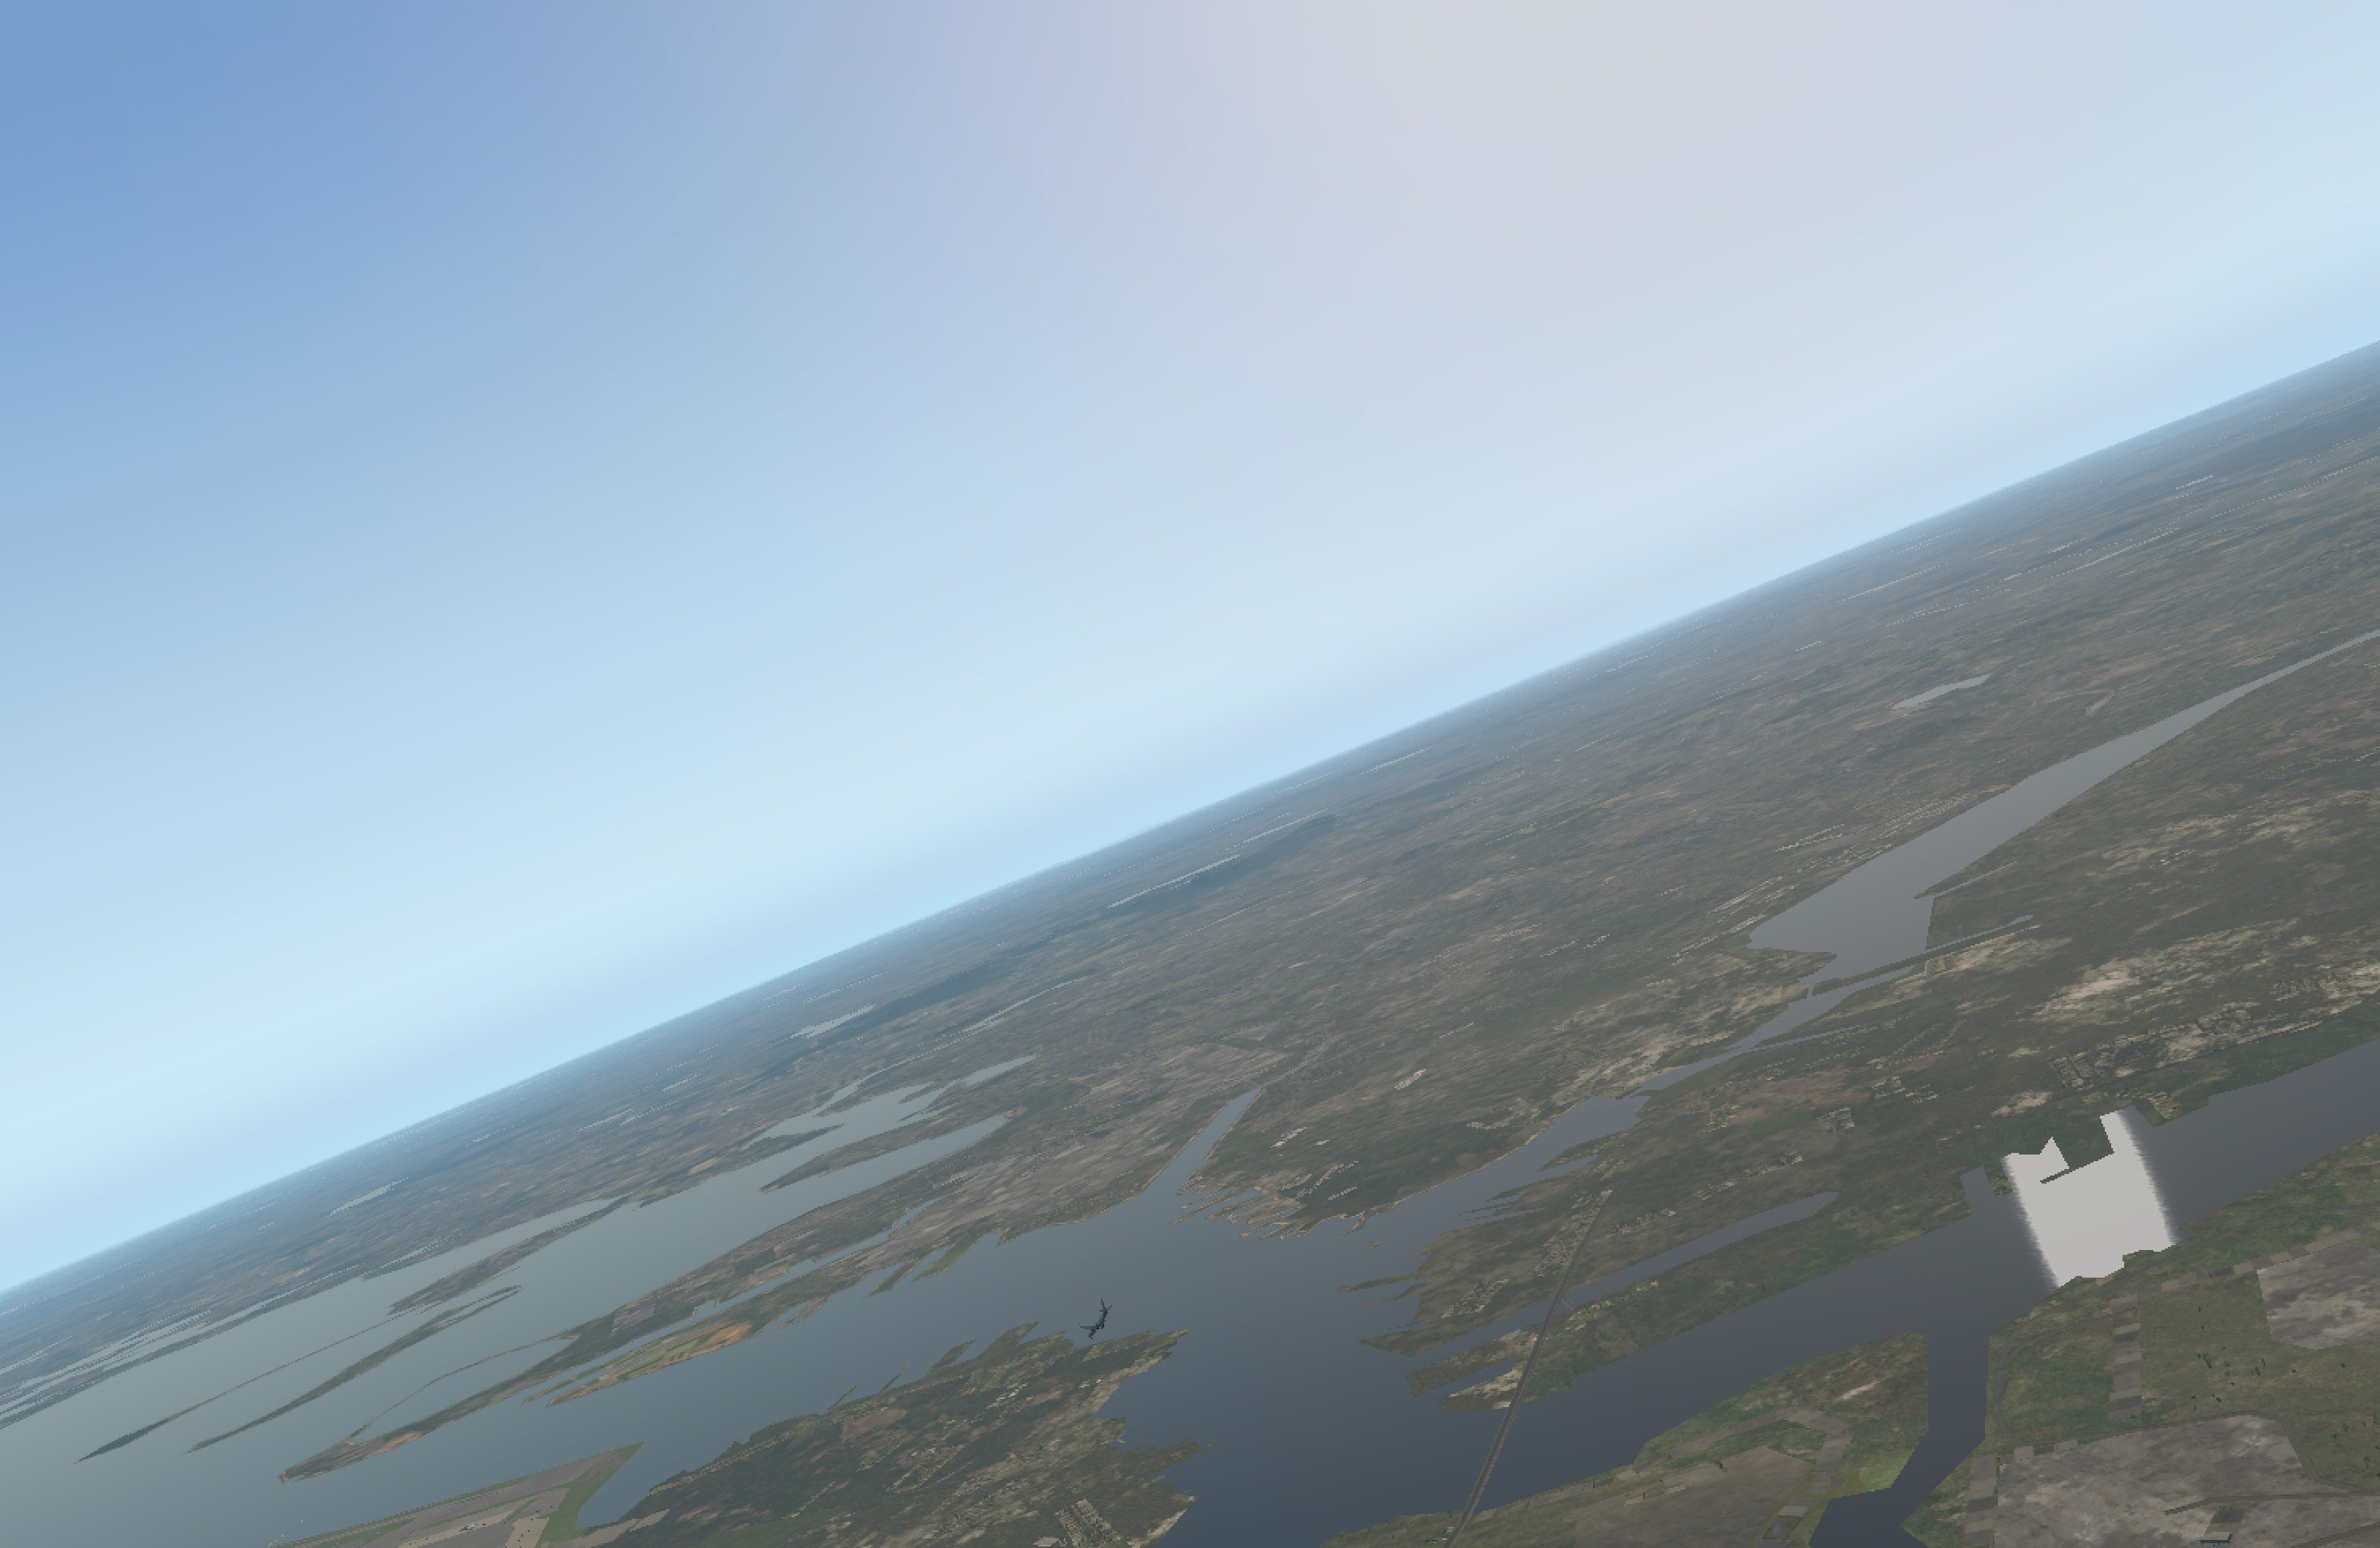aircraft: (1070, 1315, 1126, 1336)
